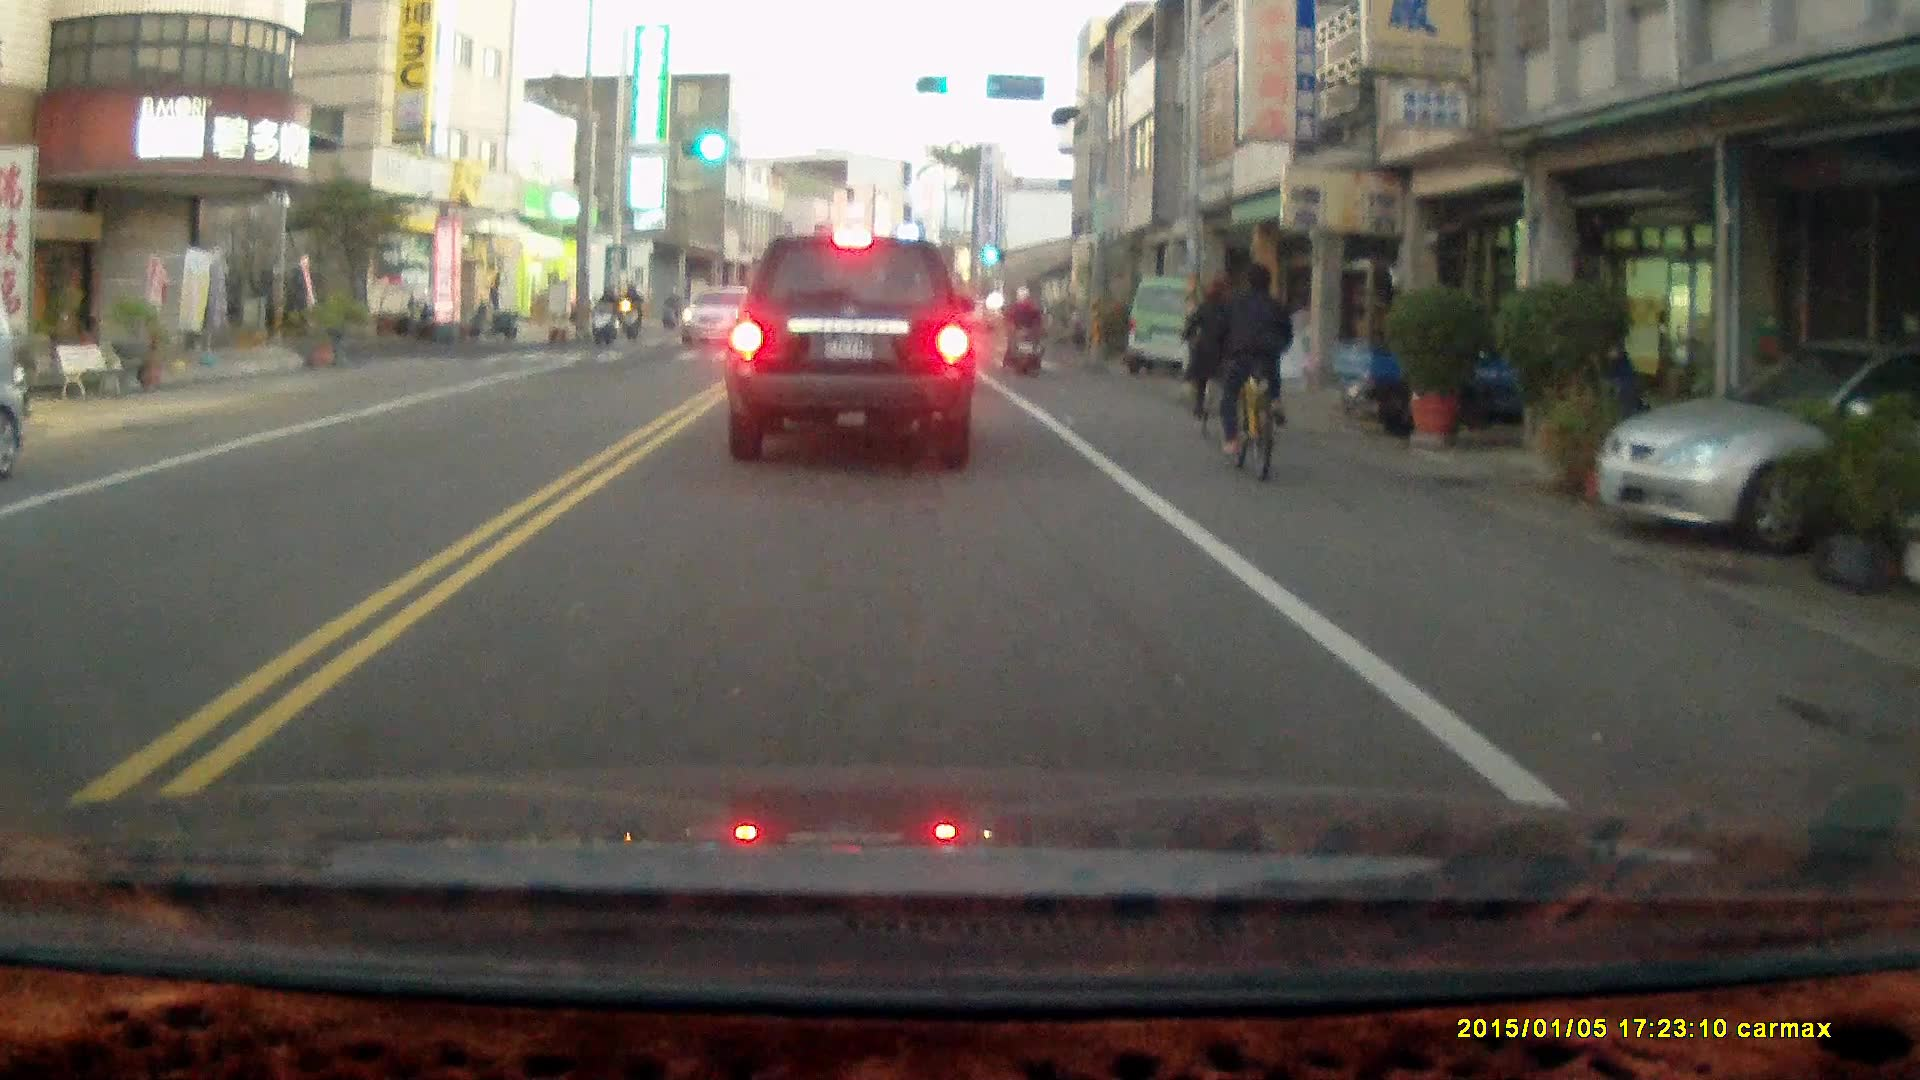pedestrian: (481, 262, 501, 315)
rider: (1209, 262, 1293, 480), (1179, 275, 1243, 444), (995, 283, 1048, 375), (587, 281, 622, 351), (615, 280, 642, 341), (658, 286, 678, 325)
vehicle: (1594, 340, 1920, 563), (728, 234, 978, 471), (1131, 277, 1227, 371), (675, 286, 776, 350)
